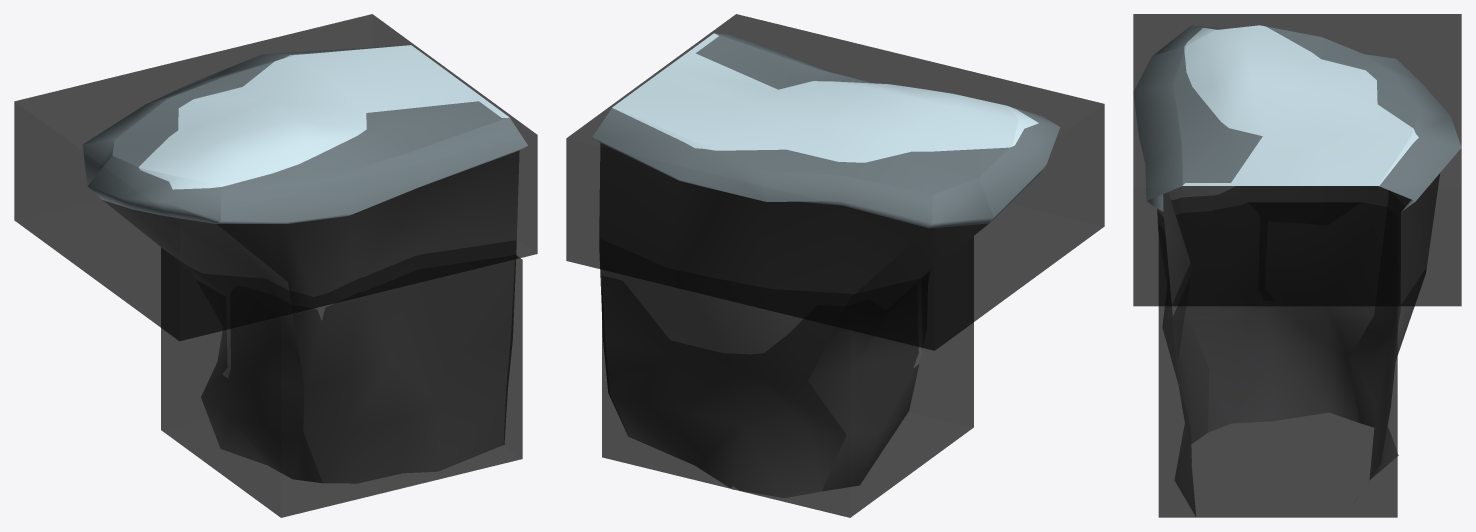
File: Cliffside_4.fbx
3 views of the same model, side by side, from view 1: azimuth 30°, elevation 25°; view 2: azimuth 150°, elevation 25°; view 3: azimuth 270°, elevation 25° (orthographic). The views are drawn at different scales.
Parts seen in each view (by area): view 1: Cliffside_4, Cliffside_4_BBox1, Cliffside_4_BBox; view 2: Cliffside_4, Cliffside_4_BBox1, Cliffside_4_BBox; view 3: Cliffside_4, Cliffside_4_BBox1, Cliffside_4_BBox.
Boxes of the visible parts, x1,y1,x2,y2 form: Cliffside_4: (82, 45, 527, 483); Cliffside_4_BBox1: (14, 14, 537, 341); Cliffside_4_BBox: (161, 248, 522, 517); Cliffside_4: (593, 33, 1059, 497); Cliffside_4_BBox1: (566, 14, 1104, 350); Cliffside_4_BBox: (602, 236, 973, 517); Cliffside_4: (1133, 25, 1461, 516); Cliffside_4_BBox1: (1133, 14, 1461, 306); Cliffside_4_BBox: (1158, 203, 1397, 517).
Size of the model in its own units: 45.83 by 42.92 by 36.61.
Materials: 2 (1 with a texture image).
